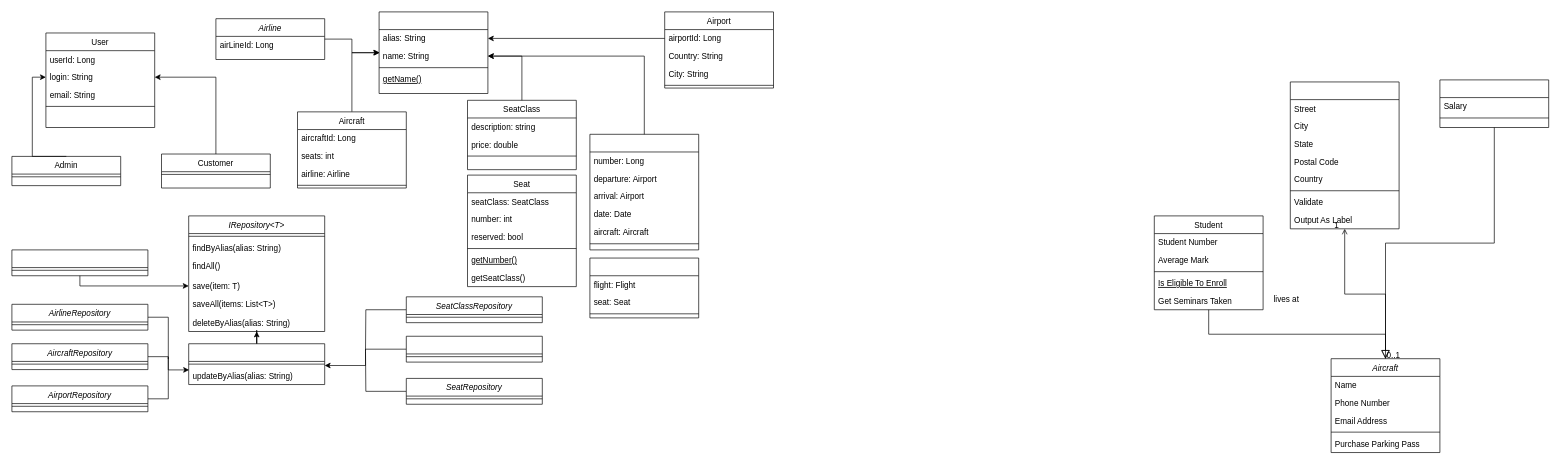
This 1561x466 diagram has some shape labels left out. The shapes that lost their labels are listed below. From the top down, each one's box as (x1, y1, x2, y2) in pixels, then its label:
(378, 11, 488, 94): IEntity
(1439, 79, 1549, 128): Professor
(1290, 81, 1399, 229): Address
(589, 134, 699, 250): Flight
(11, 249, 148, 276): AdminRepository
(589, 257, 699, 318): Ticket
(188, 343, 325, 385): IUpdateRepository
(406, 336, 542, 362): FlightRepository
